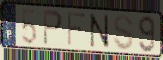5: (21, 8, 39, 46)
9: (137, 14, 157, 55)
F: (66, 11, 87, 48)
N: (88, 13, 111, 50)
P: (42, 9, 64, 48)
S: (112, 14, 135, 52)
